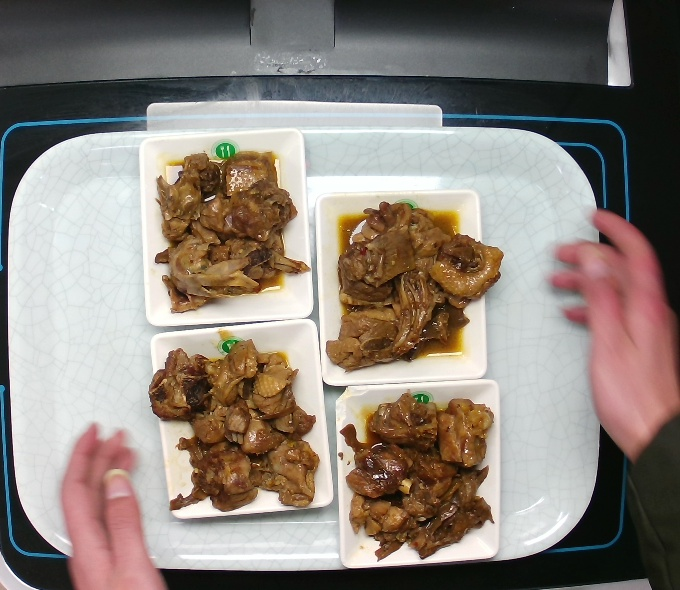wcq-HongShaoJi: (324, 189, 507, 380), (149, 328, 326, 521), (331, 371, 506, 561), (146, 132, 311, 310)
